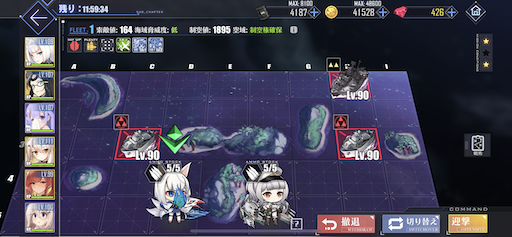lv2: (325, 57, 372, 100)
lv3: (332, 114, 379, 160), (114, 114, 159, 158)
